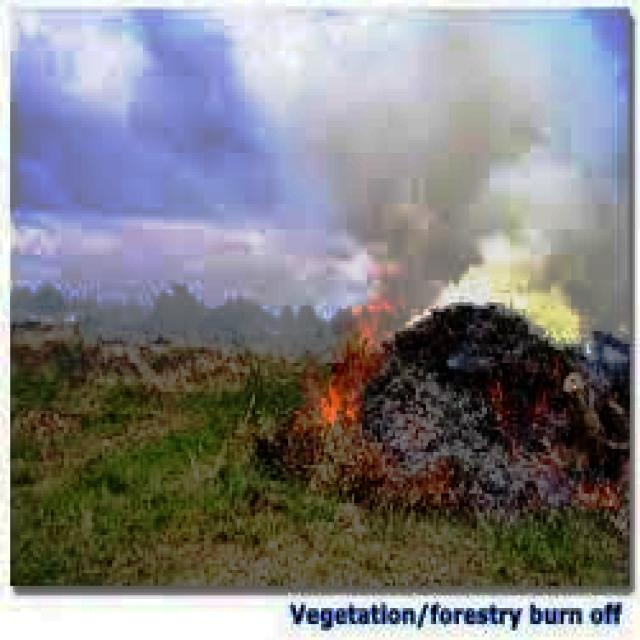api: (292, 297, 412, 441)
